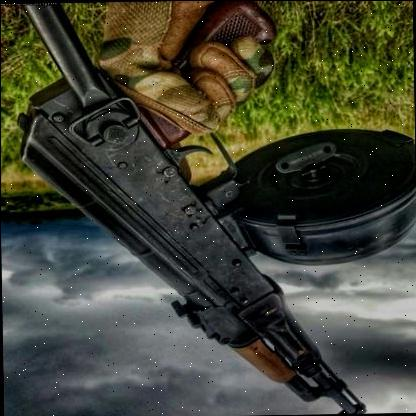rifle: (29, 36, 390, 416)
